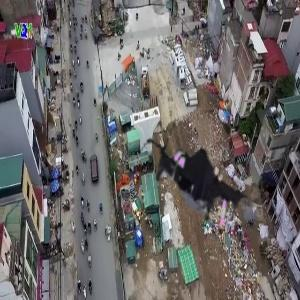drone: (130, 111, 271, 252)
